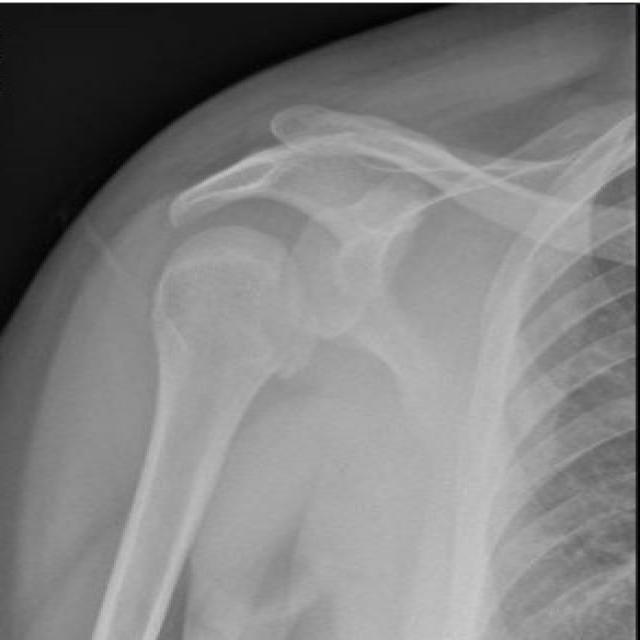Fracture: (98, 72, 530, 363)
